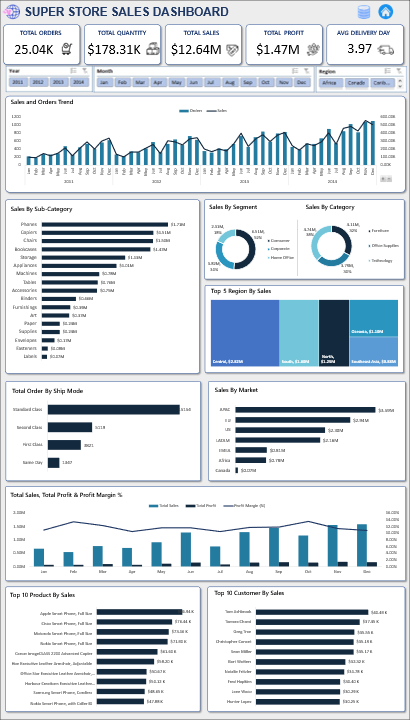

Layout of this report page (visuals, bound fields, positions):
{"tool":"powerbi","page":{"name":"Overview","canvas":[2300,1400],"ordinal":0},"visuals":[{"type":"shape","box":[0,0,2300,135],"z":0},{"type":"shape","box":[0,128.2,239.2,1272.3],"z":1000},{"type":"textbox","box":[240,2.5,927.5,77.5],"z":2000},{"type":"image","box":[0,30,240,127.5],"z":3000},{"type":"shape","box":[258.6,145.3,365,195],"z":4000},{"type":"shape","box":[669.3,142.8,365,195],"z":5000},{"type":"shape","box":[1080,142.8,365,195],"z":6000},{"type":"shape","box":[1490.7,143.8,365,195],"z":7000},{"type":"card","fields":{"Values":["superstore_sales_clean.Total Order"]},"box":[246.3,207.3,337.8,135.6],"z":8000},{"type":"textbox","box":[270.9,160.4,257.5,80],"z":9000},{"type":"image","box":[462.5,242.5,182.5,65],"z":10000},{"type":"card","fields":{"Values":["superstore_sales_clean.Total Quantity"]},"box":[681.1,212.5,281.1,128.2],"z":11000},{"type":"textbox","box":[670.7,160.7,317.5,80],"z":12000},{"type":"image","box":[905,242.5,165,72.5],"z":13000},{"type":"card","fields":{"Values":["superstore_sales_clean.Total Profit"]},"box":[1062.5,220.3,300,112.5],"z":14000},{"type":"textbox","box":[1102.5,157.8,260,77.5],"z":15000},{"type":"image","box":[1330,235,115,75],"z":16000},{"type":"card","fields":{"Values":["superstore_sales_clean.Total Sales"]},"box":[1492.5,217.8,277.5,110],"z":17000},{"type":"textbox","box":[1520,157.8,257.5,80],"z":18000},{"type":"image","box":[1742.5,240,112.5,62.5],"z":19000},{"type":"shape","box":[253.7,348.6,559.7,325.5],"z":20000},{"type":"donutChart","title":"Sales by Segment","fields":{"Y":["superstore_sales_clean.Total Sales"],"Category":["superstore_sales_clean.segment"]},"box":[271.1,366.2,535,311.5],"z":21000},{"type":"shape","box":[835,352.5,792.5,325],"z":22000},{"type":"areaChart","title":"Sales by Month Name and Year","fields":{"Category":["Date Table.Month Name"],"Y":["superstore_sales_clean.Total Sales"],"Series":["Date Table.Year"]},"box":[852.5,365,755,307.5],"z":23000},{"type":"shape","box":[1632.5,1045,652.5,327.5],"z":24000},{"type":"shape","box":[260,1045,1347.5,335],"z":25000},{"type":"lineClusteredColumnComboChart","title":"Total Sales vs Total Profit vs Profit Margin(%)","fields":{"Category":["Date Table.Month Name"],"Y":["superstore_sales_clean.Total Sales","superstore_sales_clean.Total Profit"],"Y2":["superstore_sales_clean.Profit Margin(%)"]},"box":[271.1,1060.5,1319.6,316.2],"z":26000},{"type":"treemap","title":"Total Sales by Region","fields":{"Values":["superstore_sales_clean.Total Sales"],"Group":["superstore_sales_clean.region"]},"box":[1654.9,1060.5,620.6,294.8],"z":27000},{"type":"slicer","fields":{"Values":["Date Table.Year"]},"box":[1997.5,25,280,85],"z":28000},{"type":"shape","box":[1643,351.9,642,675.3],"z":29000},{"type":"columnChart","title":"Total Order by Day & Month","fields":{"Y":["superstore_sales_clean.Total_Order_format"],"Category":["Date Table.Month Name"]},"box":[1723.9,366.2,551.6,323.4],"z":30000},{"type":"pivotTable","fields":{"Columns":["Date Table.Month Name"],"Rows":["Date Table.Day Name"],"Values":["superstore_sales_clean.Total_Order_format"]},"box":[1650.1,687.2,634.9,330.5],"z":31000},{"type":"shape","box":[259.7,696.8,559.7,325.5],"z":32000},{"type":"donutChart","title":"Sales by Category","fields":{"Y":["superstore_sales_clean.Total Sales"],"Category":["superstore_sales_clean.category"]},"box":[260,700,555,317.5],"z":33000},{"type":"shape","box":[834.6,699.1,791.8,323.4],"z":34000},{"type":"map","title":"Total Sales and Total Profit by State","fields":{"Category":["superstore_sales_clean.state"],"Size":["superstore_sales_clean.Total Sales"]},"box":[853.6,720.5,753.7,273.4],"z":35000},{"type":"slicer","fields":{"Values":["superstore_sales_clean.category"]},"box":[1685,25,280,85],"z":36000},{"type":"slicer","fields":{"Values":["superstore_sales_clean.segment"]},"box":[1362.5,25,287.5,85],"z":37000},{"type":"image","box":[67.1,1132.4,95,97.5],"z":38000},{"type":"image","box":[59.6,869.9,110,97.5],"z":39000},{"type":"image","box":[47.1,989.9,115,112.5],"z":40000},{"type":"textbox","box":[249.7,78.5,299.6,57.1],"z":41000},{"type":"pageNavigator","box":[11.9,387.6,218.8,332.9],"z":42000},{"type":"shape","box":[1892.7,145,392.3,195],"z":43000},{"type":"textbox","box":[1904.6,156.9,394.7,80.8],"z":44000},{"type":"card","fields":{"Values":["superstore_sales_clean.Avg Delivery Days"]},"box":[1905,220,235,102.5],"z":45000},{"type":"image","box":[2080,235,120,80],"z":46000}]}

Visuals, with their boxes on the page's 2300x1400 design canvas (x1, y1, x2, y2). These are canvas units, not pixel positions in the 410x720 screenshot, which may show the page scaled, cropped or inside an application window:
shape: {"left": 0, "top": 0, "right": 2300, "bottom": 135}
shape: {"left": 0, "top": 128, "right": 239, "bottom": 1400}
textbox: {"left": 240, "top": 2, "right": 1168, "bottom": 80}
image: {"left": 0, "top": 30, "right": 240, "bottom": 158}
shape: {"left": 259, "top": 145, "right": 624, "bottom": 340}
shape: {"left": 669, "top": 143, "right": 1034, "bottom": 338}
shape: {"left": 1080, "top": 143, "right": 1445, "bottom": 338}
shape: {"left": 1491, "top": 144, "right": 1856, "bottom": 339}
card - superstore_sales_clean.Total Order: {"left": 246, "top": 207, "right": 584, "bottom": 343}
textbox: {"left": 271, "top": 160, "right": 528, "bottom": 240}
image: {"left": 462, "top": 242, "right": 645, "bottom": 308}
card - superstore_sales_clean.Total Quantity: {"left": 681, "top": 212, "right": 962, "bottom": 341}
textbox: {"left": 671, "top": 161, "right": 988, "bottom": 241}
image: {"left": 905, "top": 242, "right": 1070, "bottom": 315}
card - superstore_sales_clean.Total Profit: {"left": 1062, "top": 220, "right": 1362, "bottom": 333}
textbox: {"left": 1102, "top": 158, "right": 1362, "bottom": 235}
image: {"left": 1330, "top": 235, "right": 1445, "bottom": 310}
card - superstore_sales_clean.Total Sales: {"left": 1492, "top": 218, "right": 1770, "bottom": 328}
textbox: {"left": 1520, "top": 158, "right": 1778, "bottom": 238}
image: {"left": 1742, "top": 240, "right": 1855, "bottom": 302}
shape: {"left": 254, "top": 349, "right": 813, "bottom": 674}
"Sales by Segment" donutChart: {"left": 271, "top": 366, "right": 806, "bottom": 678}
shape: {"left": 835, "top": 352, "right": 1628, "bottom": 678}
"Sales by Month Name and Year" areaChart: {"left": 852, "top": 365, "right": 1608, "bottom": 672}
shape: {"left": 1632, "top": 1045, "right": 2285, "bottom": 1372}
shape: {"left": 260, "top": 1045, "right": 1608, "bottom": 1380}
"Total Sales vs Total Profit vs Profit Margin(%)" lineClusteredColumnComboChart: {"left": 271, "top": 1060, "right": 1591, "bottom": 1377}
"Total Sales by Region" treemap: {"left": 1655, "top": 1060, "right": 2276, "bottom": 1355}
slicer - Date Table.Year: {"left": 1998, "top": 25, "right": 2278, "bottom": 110}
shape: {"left": 1643, "top": 352, "right": 2285, "bottom": 1027}
"Total Order by Day & Month" columnChart: {"left": 1724, "top": 366, "right": 2276, "bottom": 690}
pivotTable - Date Table.Month Name x Date Table.Day Name: {"left": 1650, "top": 687, "right": 2285, "bottom": 1018}
shape: {"left": 260, "top": 697, "right": 819, "bottom": 1022}
"Sales by Category" donutChart: {"left": 260, "top": 700, "right": 815, "bottom": 1018}
shape: {"left": 835, "top": 699, "right": 1626, "bottom": 1022}
"Total Sales and Total Profit by State" map: {"left": 854, "top": 720, "right": 1607, "bottom": 994}
slicer - superstore_sales_clean.category: {"left": 1685, "top": 25, "right": 1965, "bottom": 110}
slicer - superstore_sales_clean.segment: {"left": 1362, "top": 25, "right": 1650, "bottom": 110}
image: {"left": 67, "top": 1132, "right": 162, "bottom": 1230}
image: {"left": 60, "top": 870, "right": 170, "bottom": 967}
image: {"left": 47, "top": 990, "right": 162, "bottom": 1102}
textbox: {"left": 250, "top": 78, "right": 549, "bottom": 136}
pageNavigator: {"left": 12, "top": 388, "right": 231, "bottom": 720}
shape: {"left": 1893, "top": 145, "right": 2285, "bottom": 340}
textbox: {"left": 1905, "top": 157, "right": 2299, "bottom": 238}
card - superstore_sales_clean.Avg Delivery Days: {"left": 1905, "top": 220, "right": 2140, "bottom": 322}
image: {"left": 2080, "top": 235, "right": 2200, "bottom": 315}
